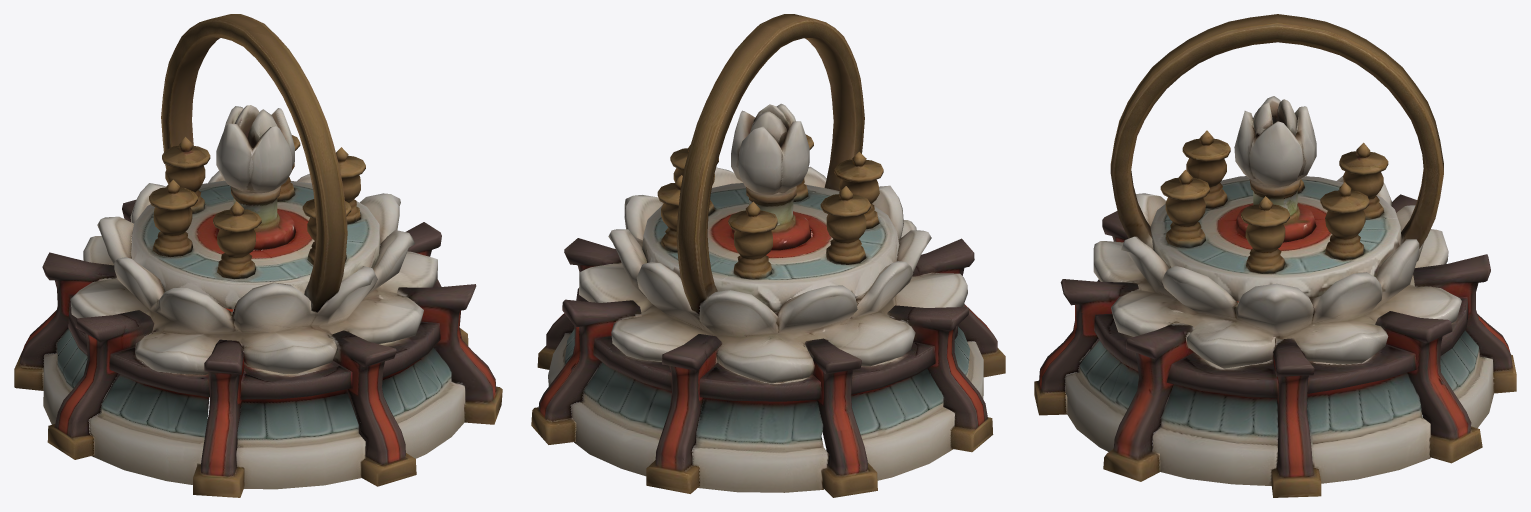
The model's file is tripo_convert_35144780-f677-4f16-a643-604c382765cd.fbx.
3 views of the same model, side by side, from view 1: azimuth 30°, elevation 25°; view 2: azimuth 150°, elevation 25°; view 3: azimuth 270°, elevation 25° (orthographic).
Parts seen in each view (by area): view 1: tripo_node_35144780; view 2: tripo_node_35144780; view 3: tripo_node_35144780.
Boxes of the visible parts, box(x1,y1,x2,y2) form: tripo_node_35144780: box(14, 14, 502, 497); tripo_node_35144780: box(531, 14, 1005, 497); tripo_node_35144780: box(1034, 14, 1516, 497).
Size of the model in its own units: 0.998 by 0.8574 by 0.998.
Materials: 1 (1 with a texture image).
